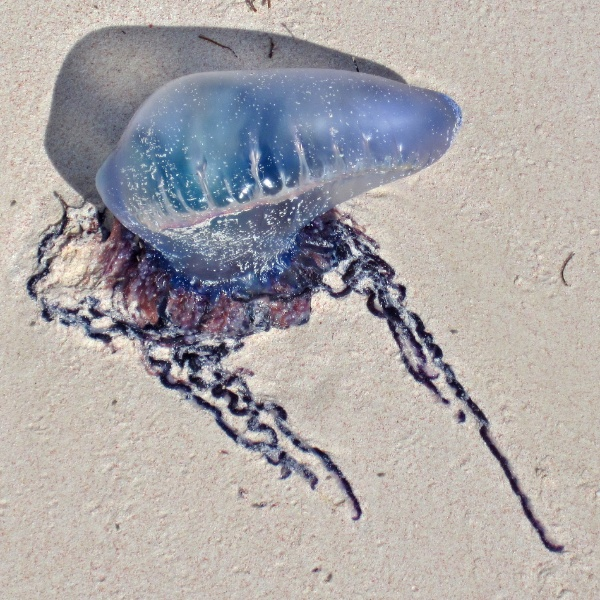Jellyfish: (70, 69, 402, 354)
